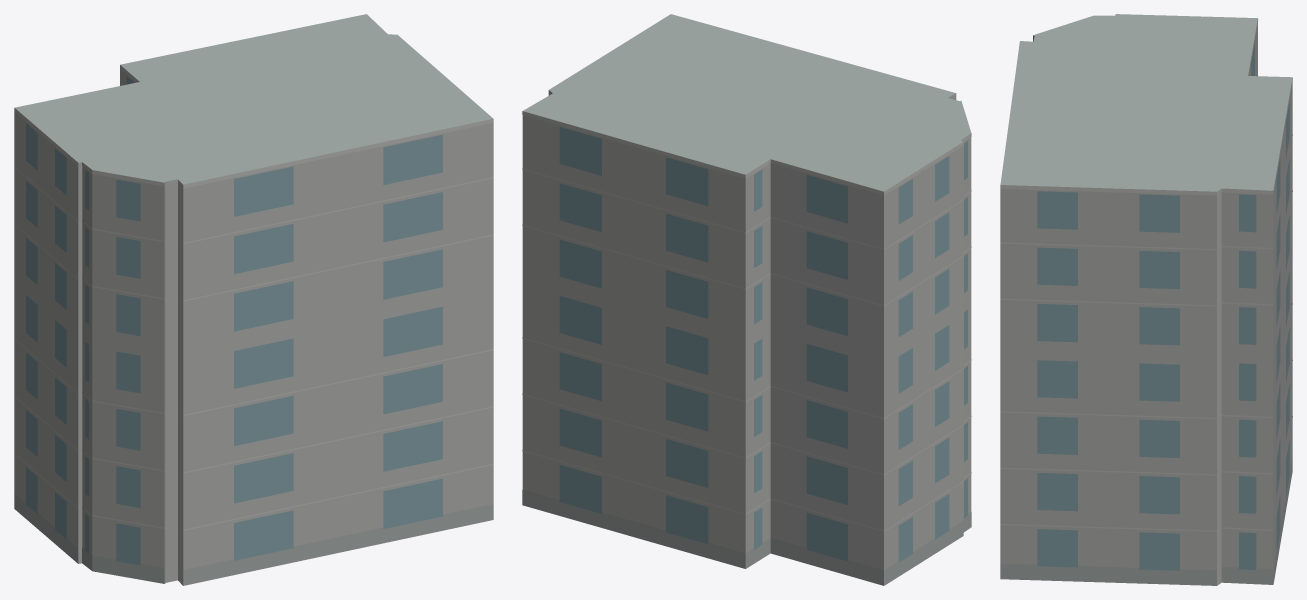
The model's file is survey-upis-32692986.glb.
3 views of the same model, side by side, from view 1: azimuth 30°, elevation 25°; view 2: azimuth 150°, elevation 25°; view 3: azimuth 270°, elevation 25° (orthographic).
Visible parts, largest first — view 1: survey-upis-32692986.tmp; view 2: survey-upis-32692986.tmp; view 3: survey-upis-32692986.tmp.
Boxes of the visible parts, left/top/right/bottom form: survey-upis-32692986.tmp: left=14, top=14, right=493, bottom=585; survey-upis-32692986.tmp: left=522, top=14, right=971, bottom=585; survey-upis-32692986.tmp: left=1000, top=14, right=1292, bottom=585.
Size of the model in its own units: 23.38 by 24.16 by 16.26.
